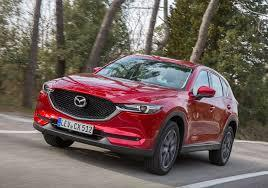mazda: (90, 95, 115, 117)
